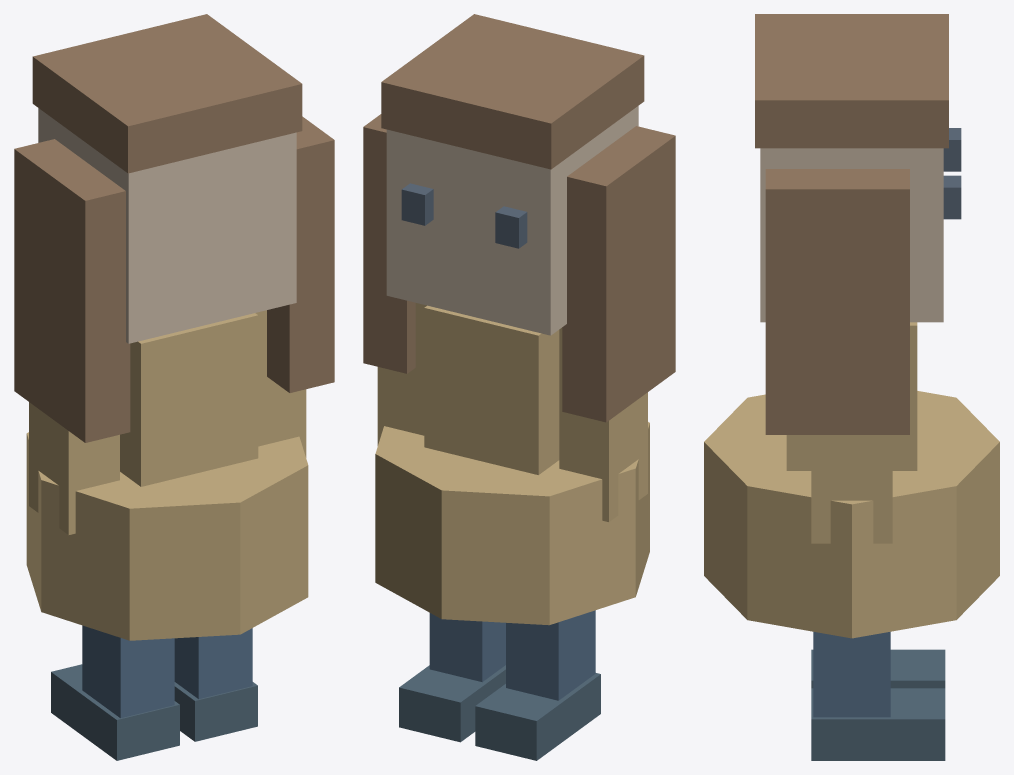
Rendered from Ada.glb.
3 renders of one model, left to right at view 1: azimuth 30°, elevation 25°; view 2: azimuth 150°, elevation 25°; view 3: azimuth 270°, elevation 25°, orthographic. The views are drawn at different scales.
Visible parts, largest first — view 1: Part_02, Part_09, Part_13, Part_10, Part_00, Part_14, Part_05, Part_03, Part_07, Part_06, Part_08, Part_04; view 2: Part_02, Part_09, Part_13, Part_10, Part_00, Part_14, Part_07, Part_03, Part_05, Part_08, Part_06, Part_04 (+2 smaller); view 3: Part_02, Part_14, Part_10, Part_09, Part_08, Part_04, Part_06, Part_00, Part_07, Part_12, Part_11.
Boxes of the visible parts, <box> form: Part_02: <box>26,432,308,640</box>; Part_09: <box>38,108,296,343</box>; Part_13: <box>14,139,130,442</box>; Part_10: <box>32,14,302,173</box>; Part_00: <box>120,313,258,486</box>; Part_14: <box>267,116,334,392</box>; Part_05: <box>82,625,174,718</box>; Part_03: <box>29,402,119,534</box>; Part_07: <box>51,664,179,760</box>; Part_06: <box>174,628,252,699</box>; Part_08: <box>174,682,257,741</box>; Part_04: <box>255,310,306,457</box>; Part_02: <box>375,422,649,625</box>; Part_09: <box>386,106,638,335</box>; Part_13: <box>562,126,675,422</box>; Part_10: <box>381,14,644,169</box>; Part_00: <box>424,305,559,474</box>; Part_14: <box>363,114,415,373</box>; Part_07: <box>475,673,600,760</box>; Part_03: <box>559,327,647,521</box>; Part_05: <box>506,610,595,700</box>; Part_08: <box>399,665,505,742</box>; Part_06: <box>429,613,505,682</box>; Part_04: <box>377,303,426,445</box>; Part_02: <box>704,391,999,638</box>; Part_14: <box>765,169,909,434</box>; Part_10: <box>755,14,948,148</box>; Part_09: <box>760,148,943,322</box>; Part_08: <box>811,688,945,760</box>; Part_04: <box>811,435,892,543</box>; Part_06: <box>813,631,890,717</box>; Part_00: <box>786,322,917,470</box>; Part_07: <box>811,649,945,688</box>; Part_12: <box>943,175,961,219</box>; Part_11: <box>943,128,961,171</box>.
Bounding box in the file's own units: 0.84 × 2.1 × 0.84.
